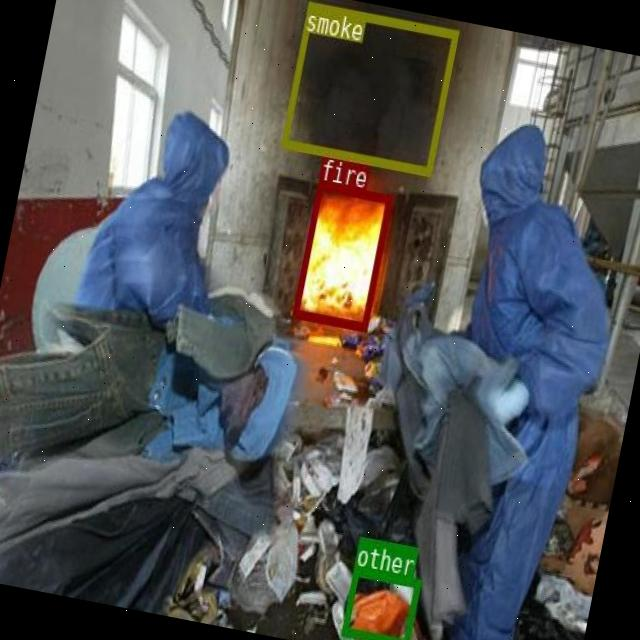fire: (293, 179, 392, 329)
smoke: (282, 2, 458, 175)
